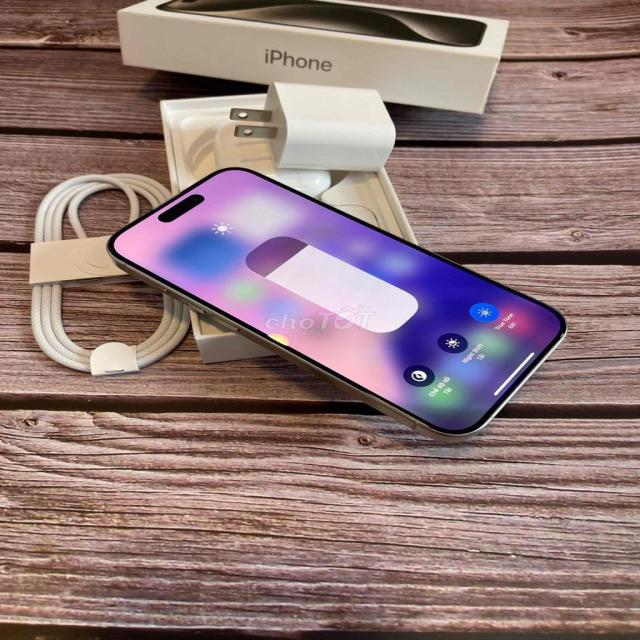gen_15: (100, 158, 572, 448)
